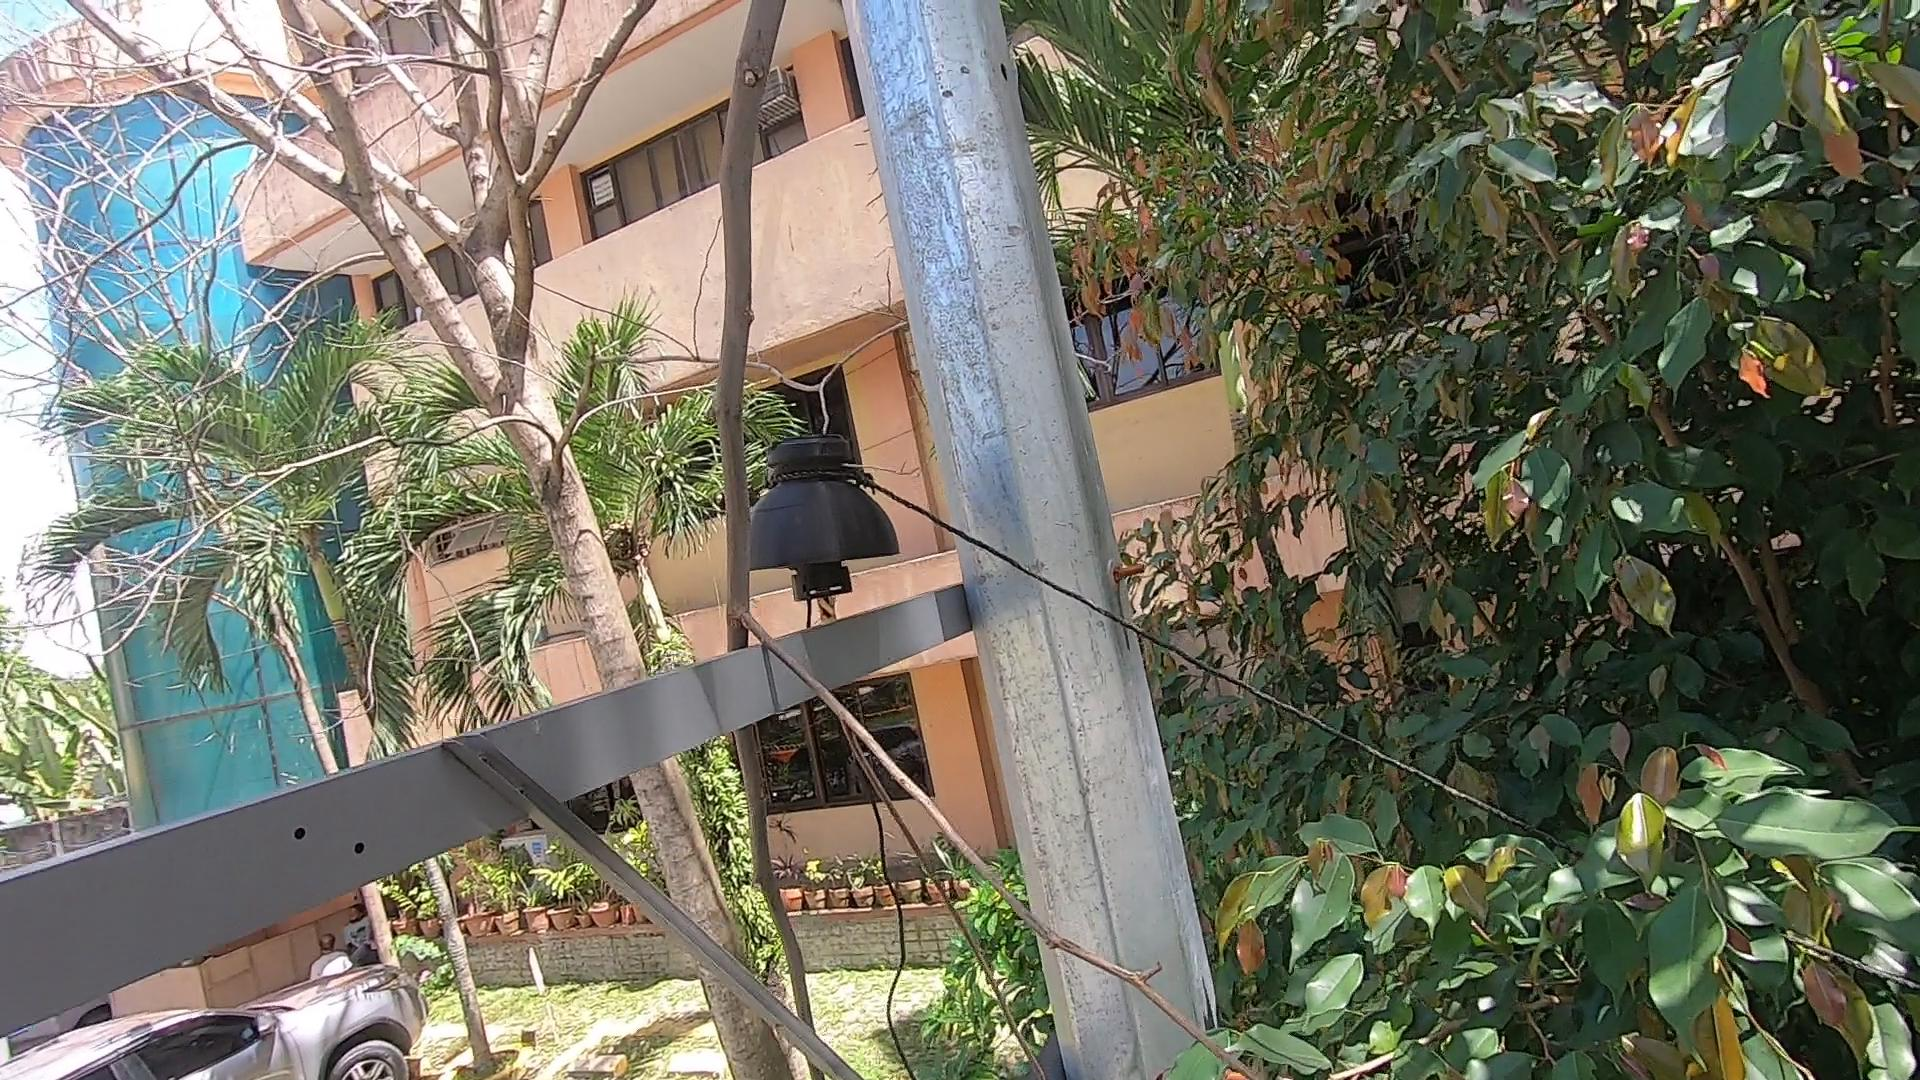tree branch: (636, 3, 910, 1080)
